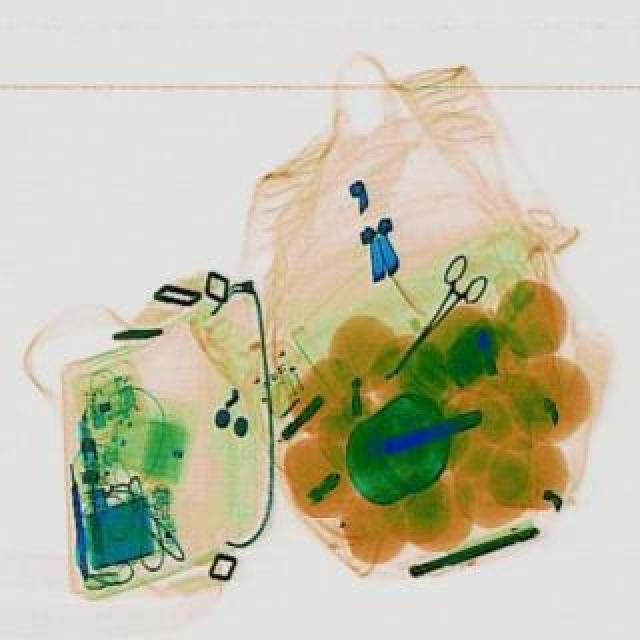pliers: (364, 248, 496, 390)
